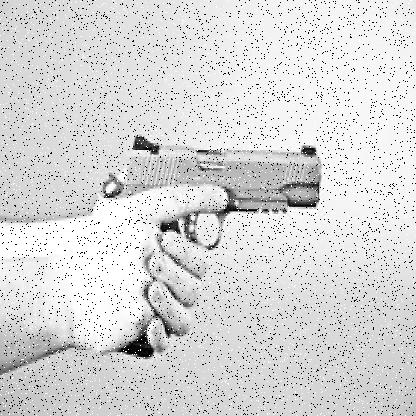pistol: (94, 114, 325, 364)
